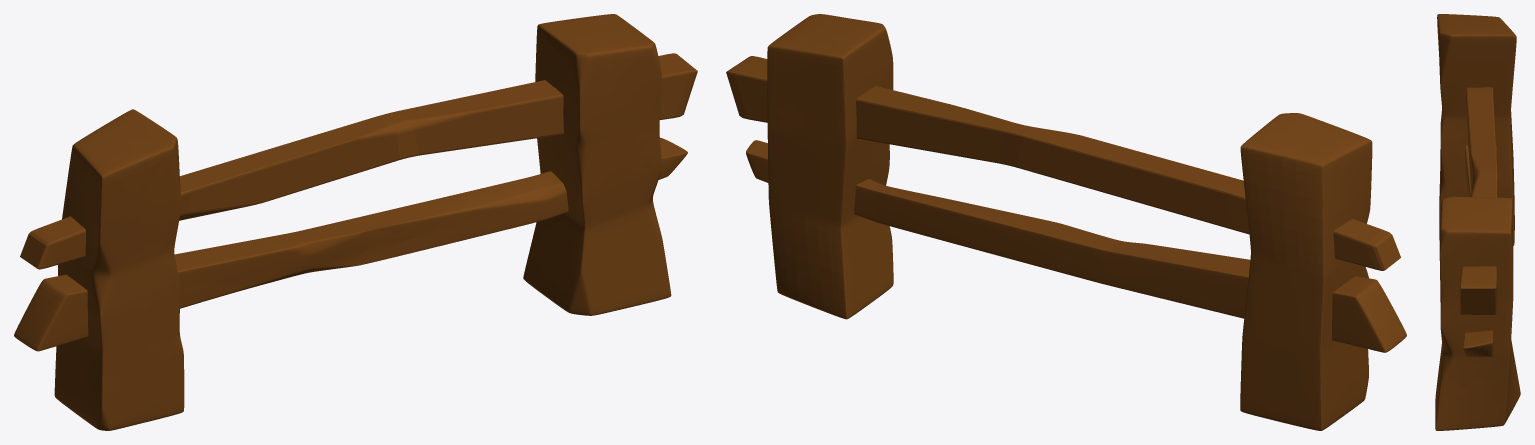
Rendered from FENCE.fbx.
3 renders of one model, left to right at view 1: azimuth 30°, elevation 25°; view 2: azimuth 150°, elevation 25°; view 3: azimuth 270°, elevation 25°, orthographic. The views are drawn at different scales.
Visible parts, largest first — view 1: Cube.098; view 2: Cube.098; view 3: Cube.098.
Boxes of the visible parts, left/top/right/bottom form: Cube.098: left=14, top=14, right=697, bottom=430; Cube.098: left=726, top=14, right=1406, bottom=430; Cube.098: left=1435, top=14, right=1520, bottom=430.
Size of the model in its own units: 834 by 328 by 119.
